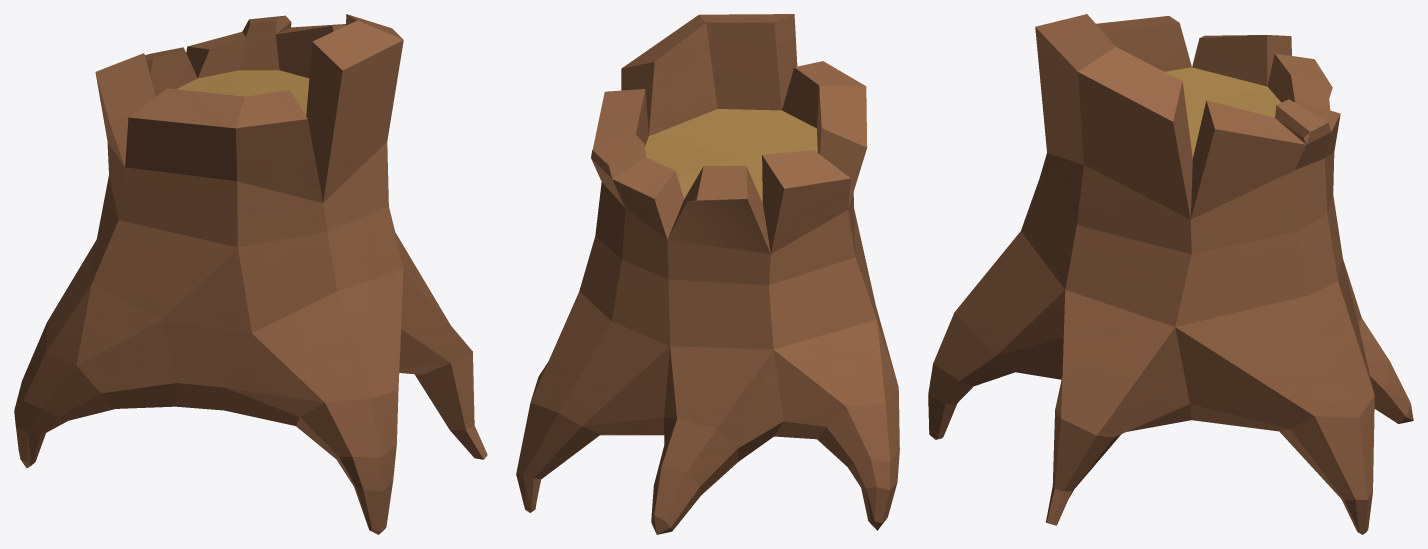
File: Tree_Trunk_02.fbx
3 views of the same model, side by side, from view 1: azimuth 30°, elevation 25°; view 2: azimuth 150°, elevation 25°; view 3: azimuth 270°, elevation 25° (orthographic). The views are drawn at different scales.
Parts seen in each view (by area): view 1: Tree_Trunk_02; view 2: Tree_Trunk_02; view 3: Tree_Trunk_02.
Boxes of the visible parts, x1,y1,x2,y2 form: Tree_Trunk_02: (14,14,487,534); Tree_Trunk_02: (516,14,899,534); Tree_Trunk_02: (928,14,1413,534).
Size of the model in its own units: 114 by 137 by 131.
